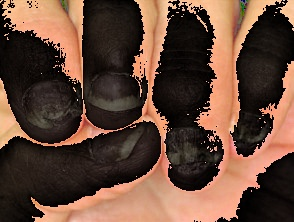Nail_psoriasis: (12, 65, 91, 143), (160, 122, 227, 182), (78, 132, 147, 181), (225, 101, 280, 153)
